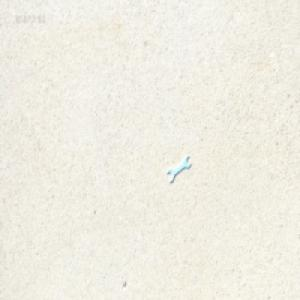Wrench: (165, 151, 190, 180)
